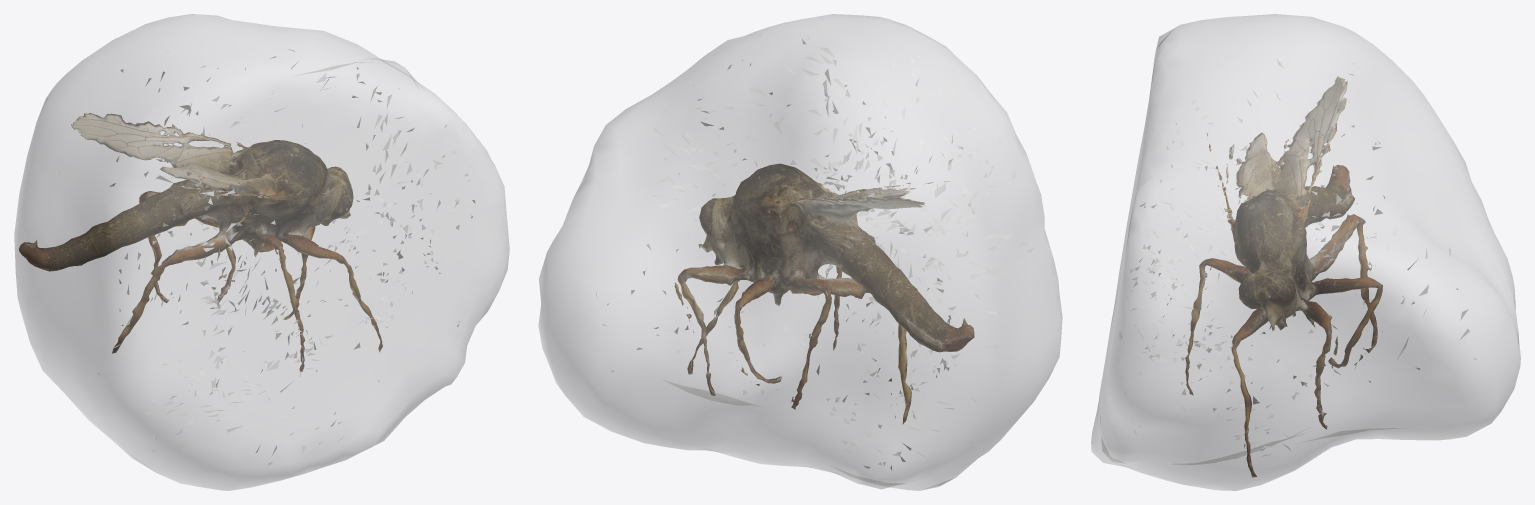
Rendered from MosquitoInAmber.gltf.
3 views of the same model, side by side, from view 1: azimuth 30°, elevation 25°; view 2: azimuth 150°, elevation 25°; view 3: azimuth 270°, elevation 25° (orthographic). The views are drawn at different scales.
Visible parts, largest first — view 1: 5_amber_lr, 2_mosquito_lr, 6_eclats; view 2: 5_amber_lr, 2_mosquito_lr, 6_eclats; view 3: 5_amber_lr, 2_mosquito_lr, 6_eclats.
Part boxes in pixels (x1,y1,x2,y2): 5_amber_lr: (14,14,509,490); 2_mosquito_lr: (19,113,382,371); 6_eclats: (98,49,475,465); 5_amber_lr: (538,14,1062,490); 2_mosquito_lr: (674,163,974,423); 6_eclats: (596,35,1036,470); 5_amber_lr: (1091,14,1520,490); 2_mosquito_lr: (1185,76,1382,477); 6_eclats: (1109,59,1476,456).
Bounding box in the file's own units: 0.0972 × 0.0997 × 0.0879.
